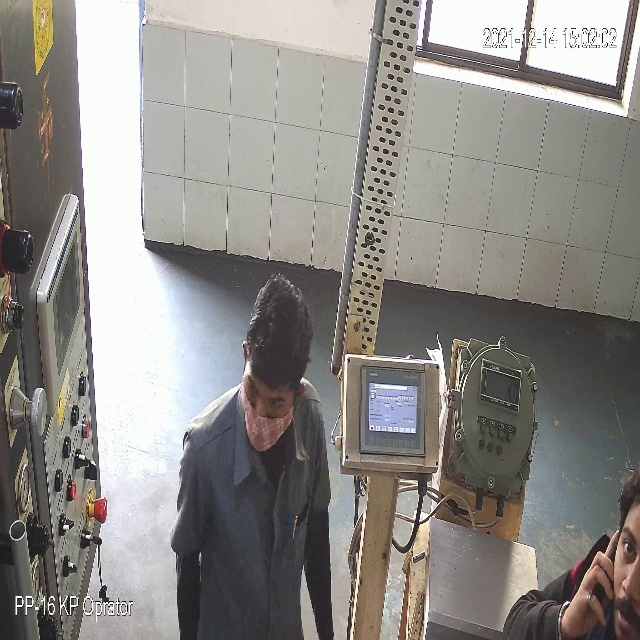Sin_gafas: (243, 375, 291, 415)
